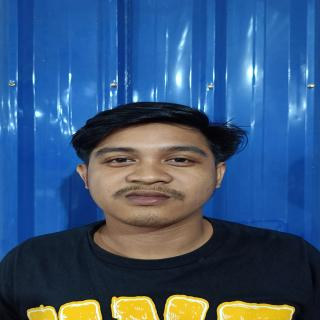Netral: (78, 120, 224, 231)
